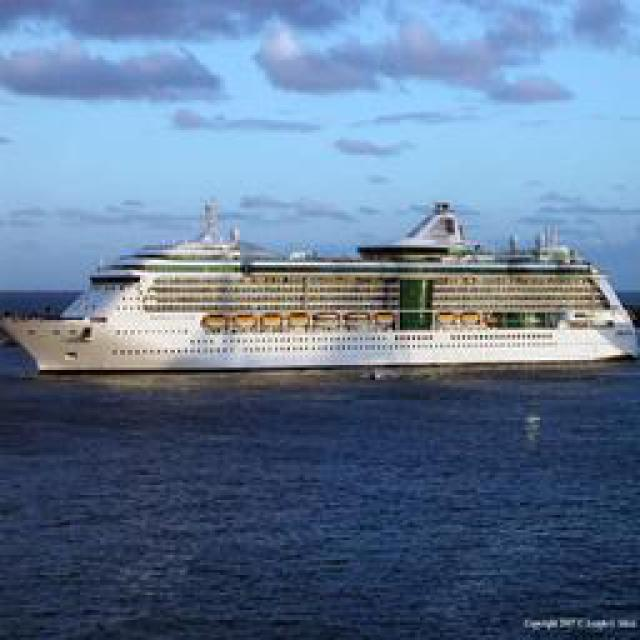Ship: (1, 255, 629, 378)
